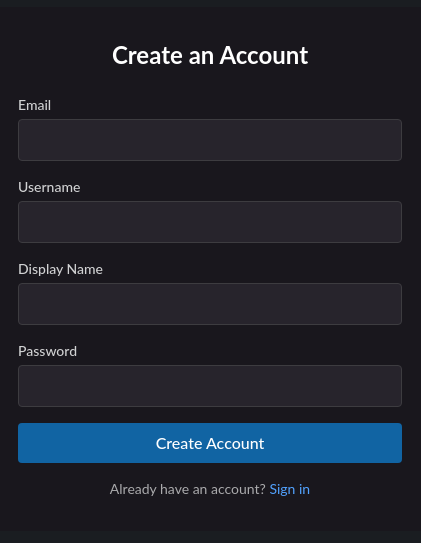
Test: RegisterForm › displays error message on registration failure
In the field below "Email": (210, 140) [18, 119, 402, 161], type "existing@example.com"
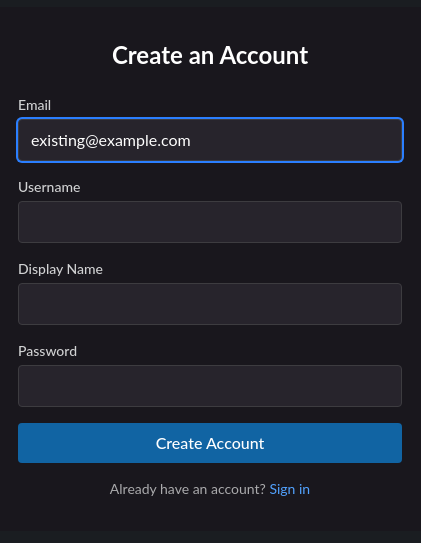
In the field below "Username": (210, 222) [18, 201, 402, 243], type "testuser"
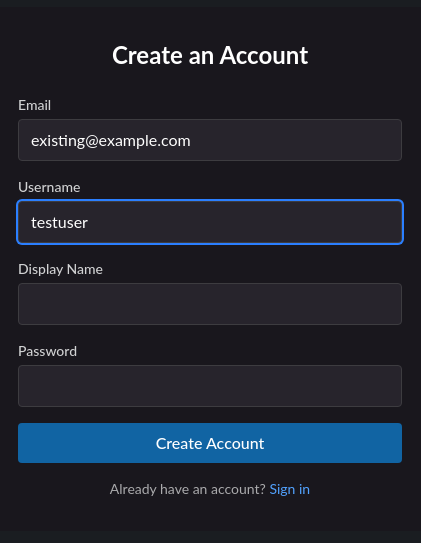
In the password field: (210, 386) [18, 365, 402, 407], type "password123"
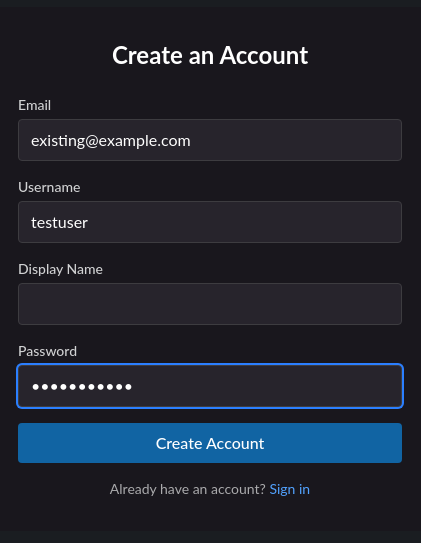
Click the button "Create Account": (210, 443) [18, 423, 402, 463]
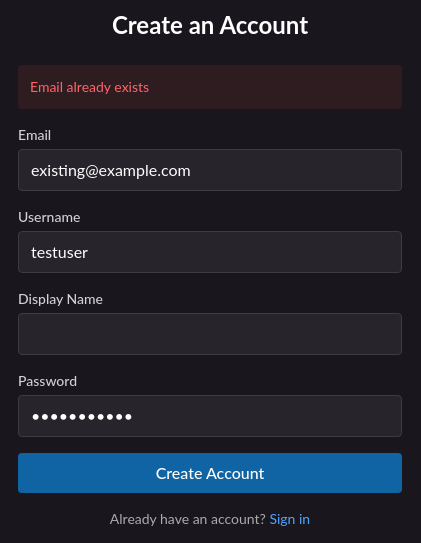
Check: the text "Email already exists" is shown, box [18, 65, 402, 109]
